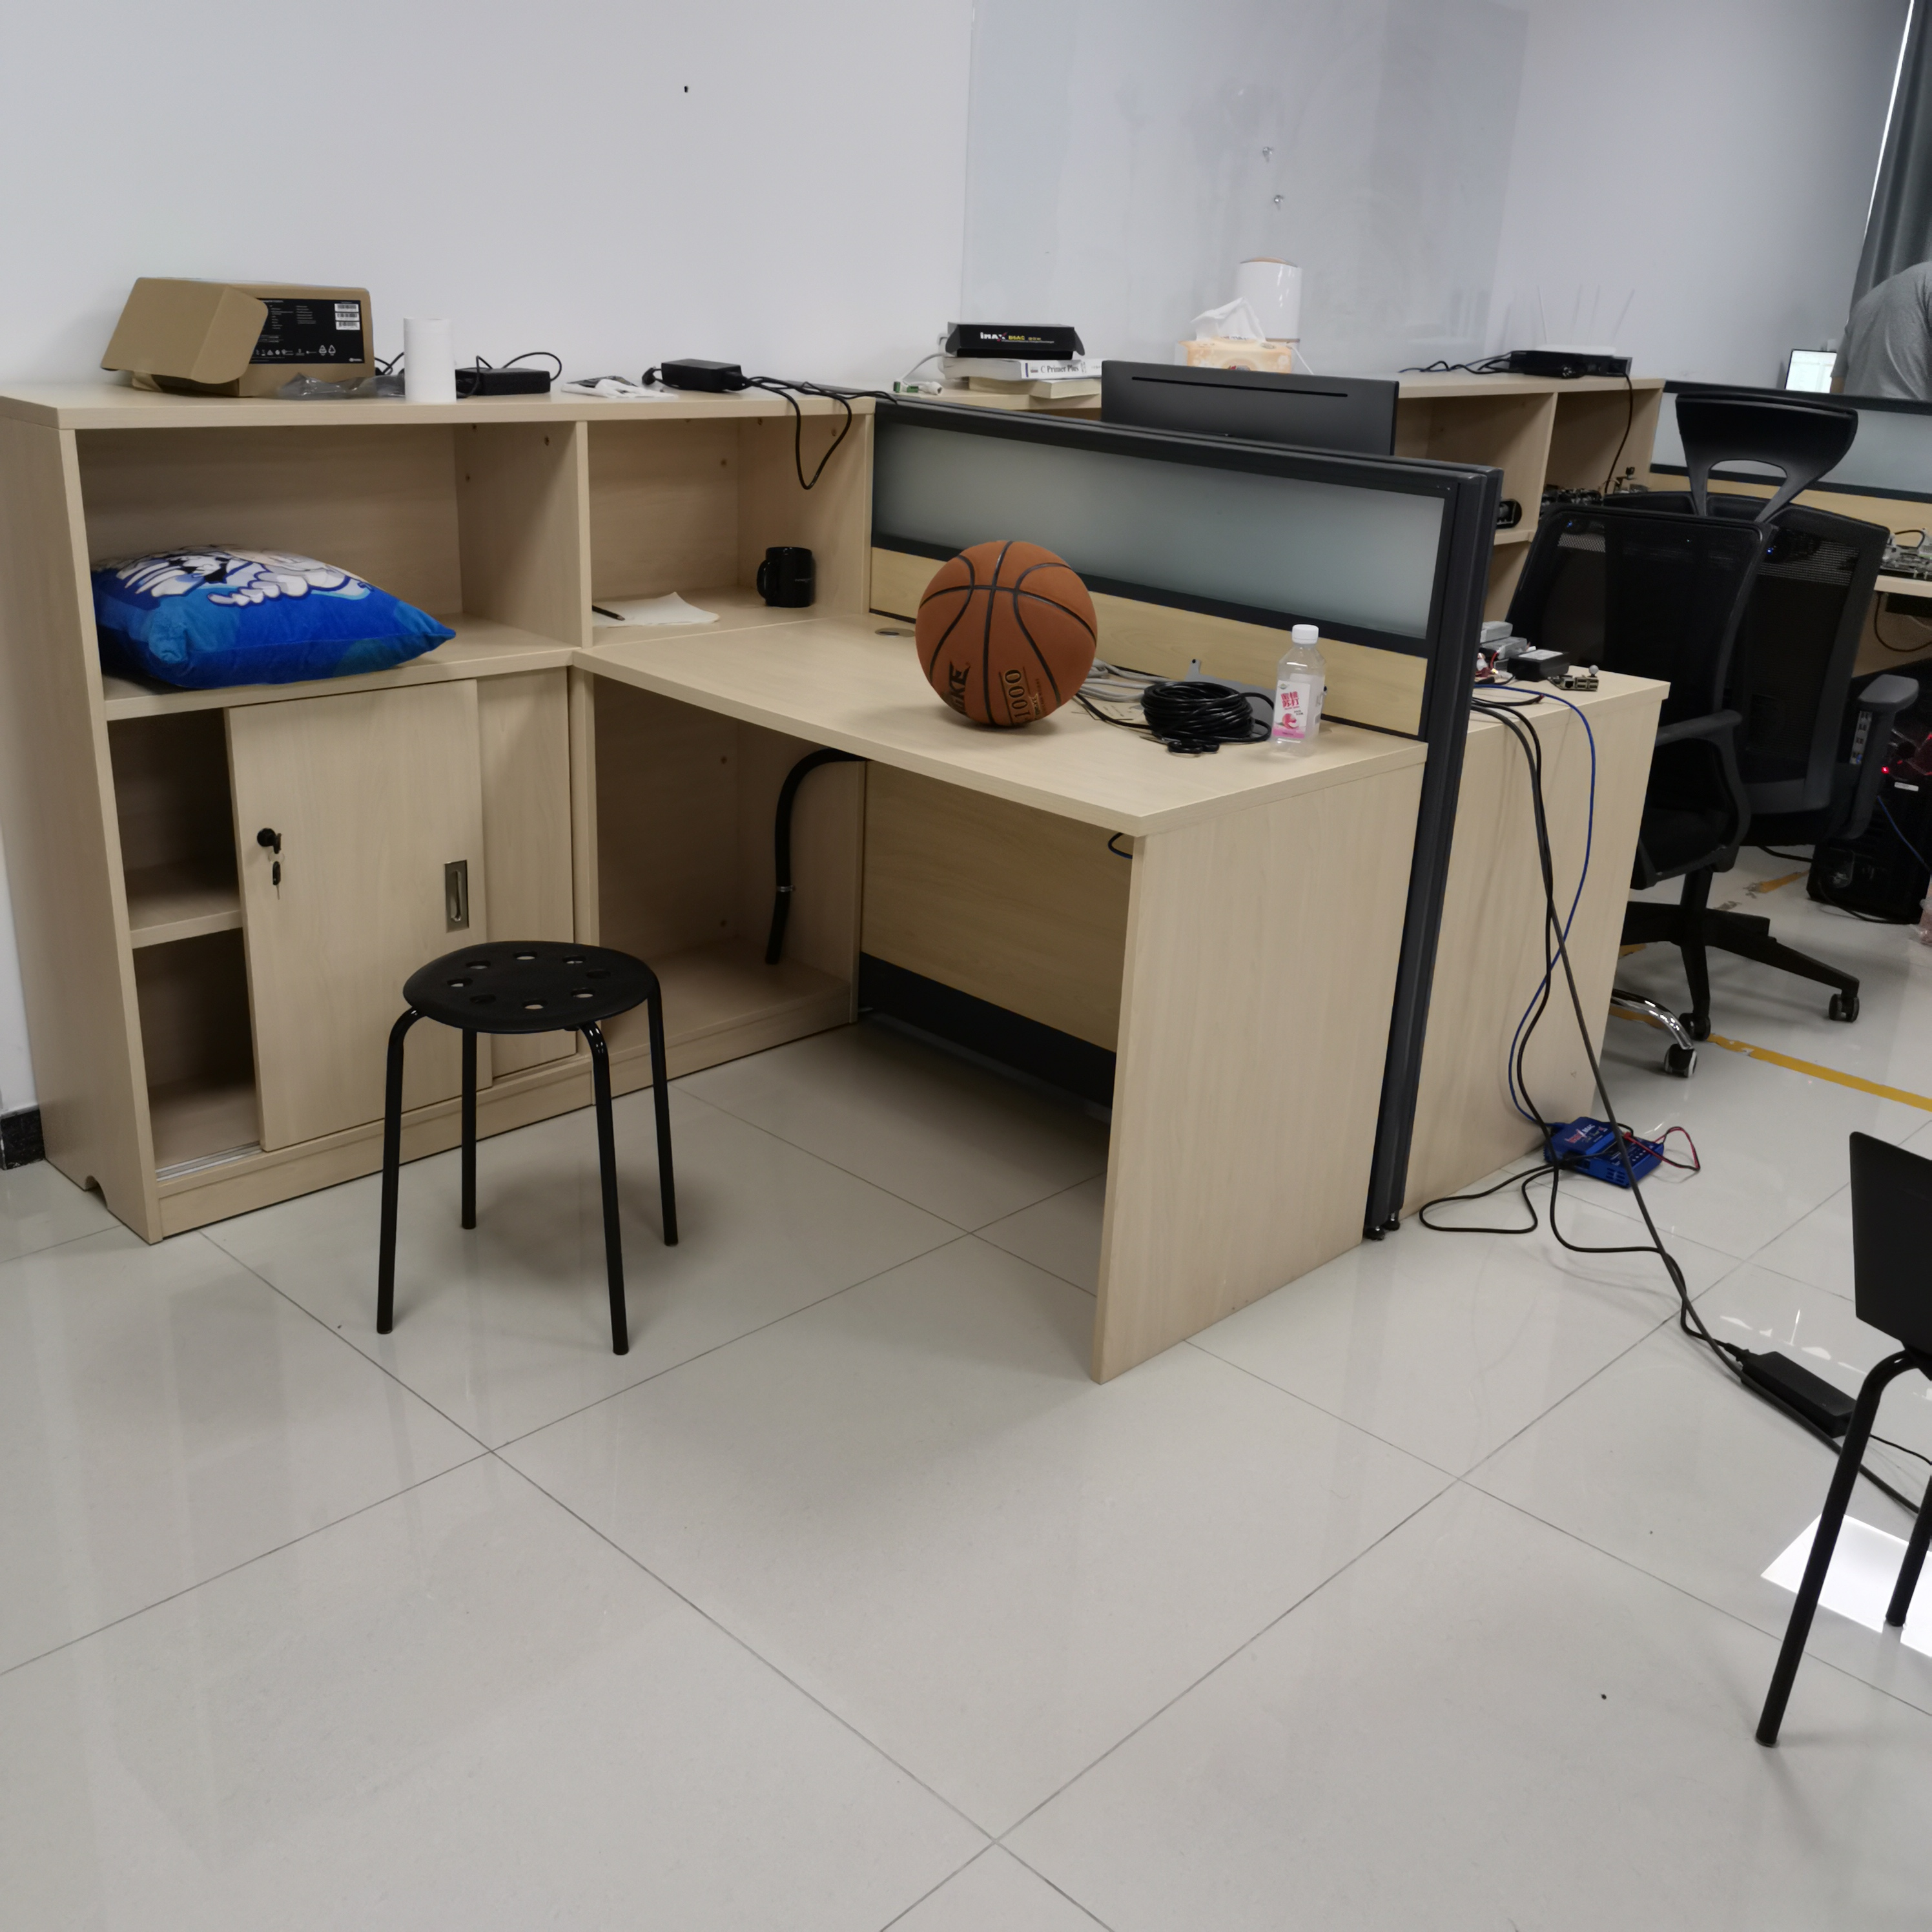basketball: (916, 540, 1099, 732)
